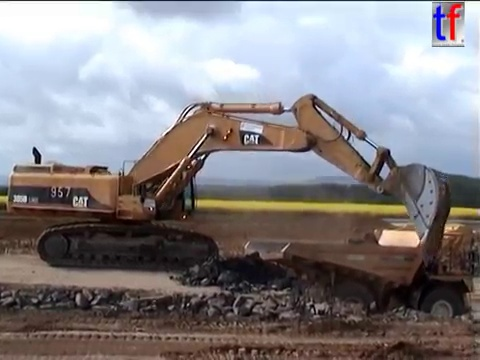excavator: (4, 90, 455, 275)
truck: (241, 218, 480, 337)
